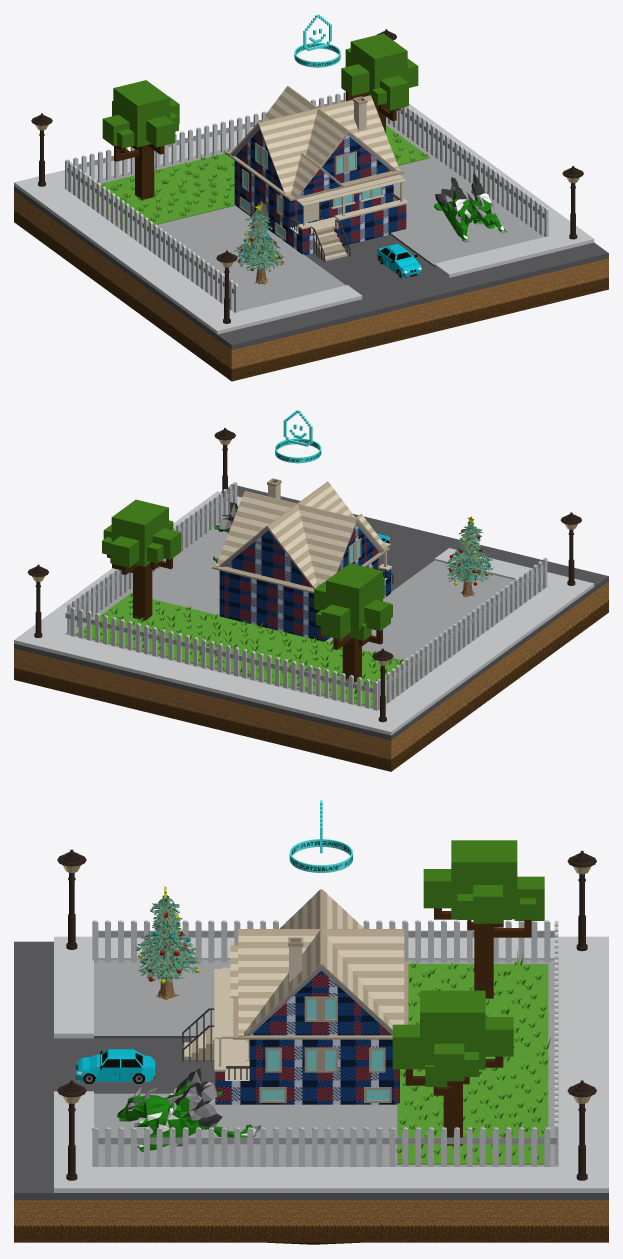
3 views of the same model, one above another, from view 1: azimuth 30°, elevation 25°; view 2: azimuth 150°, elevation 25°; view 3: azimuth 270°, elevation 25° (orthographic). The views are drawn at different scales.
Visible parts, largest first — view 1: Cube.004, Cube.171, ANIMAL_DRAGON, OBJRANDOM_CHRISTMAS_TREE, VEHICLES_CAR, TYPE_PREMIUM; view 2: Cube.004, Cube.171, OBJRANDOM_CHRISTMAS_TREE, TYPE_PREMIUM; view 3: Cube.004, Cube.171, ANIMAL_DRAGON, OBJRANDOM_CHRISTMAS_TREE, VEHICLES_CAR, TYPE_PREMIUM.
Boxes of the visible parts, x1=… form: Cube.004: x1=14, y1=29, x2=608, y2=381; Cube.171: x1=226, y1=86, x2=408, y2=262; ANIMAL_DRAGON: x1=434, y1=172, x2=507, y2=242; OBJRANDOM_CHRISTMAS_TREE: x1=234, y1=204, x2=285, y2=284; VEHICLES_CAR: x1=376, y1=244, x2=421, y2=278; TYPE_PREMIUM: x1=294, y1=14, x2=340, y2=67; Cube.004: x1=14, y1=428, x2=608, y2=771; Cube.171: x1=212, y1=478, x2=393, y2=641; OBJRANDOM_CHRISTMAS_TREE: x1=445, y1=516, x2=492, y2=597; TYPE_PREMIUM: x1=275, y1=410, x2=321, y2=463; Cube.004: x1=14, y1=840, x2=608, y2=1242; Cube.171: x1=182, y1=889, x2=408, y2=1104; ANIMAL_DRAGON: x1=117, y1=1068, x2=260, y2=1152; OBJRANDOM_CHRISTMAS_TREE: x1=135, y1=886, x2=200, y2=1000; VEHICLES_CAR: x1=75, y1=1049, x2=156, y2=1083; TYPE_PREMIUM: x1=289, y1=800, x2=352, y2=872.
Bounding box in the file's own units: 4000 × 2533 × 4000.
40 materials, 5 textured.
